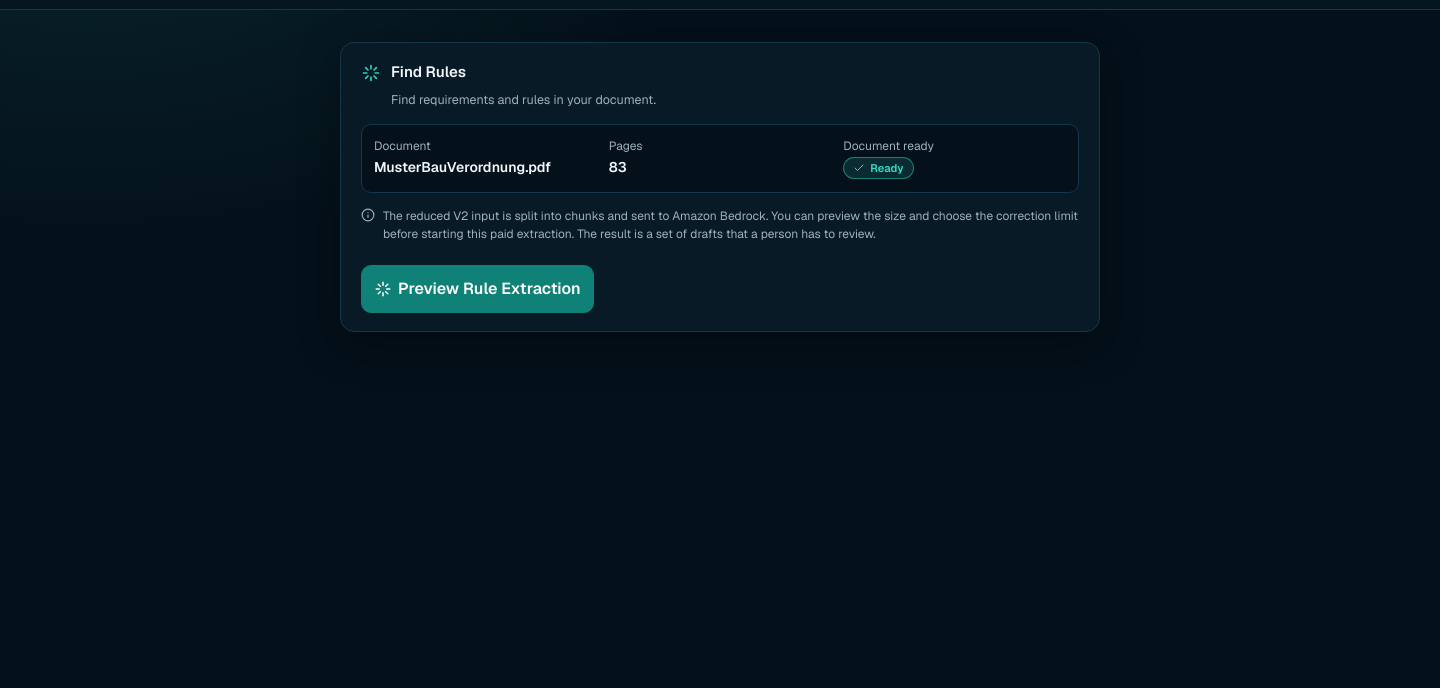
Scenario: failures and timeouts › explains an output-limit failure in plain words, without the backend's message or code
The width and height of the screenshot is (1440, 688).
What coordinates should you click on to do the following:
click the button "Preview Rule Extraction"
I would click on:
 (477, 289)
Its box is [361,265,594,313].
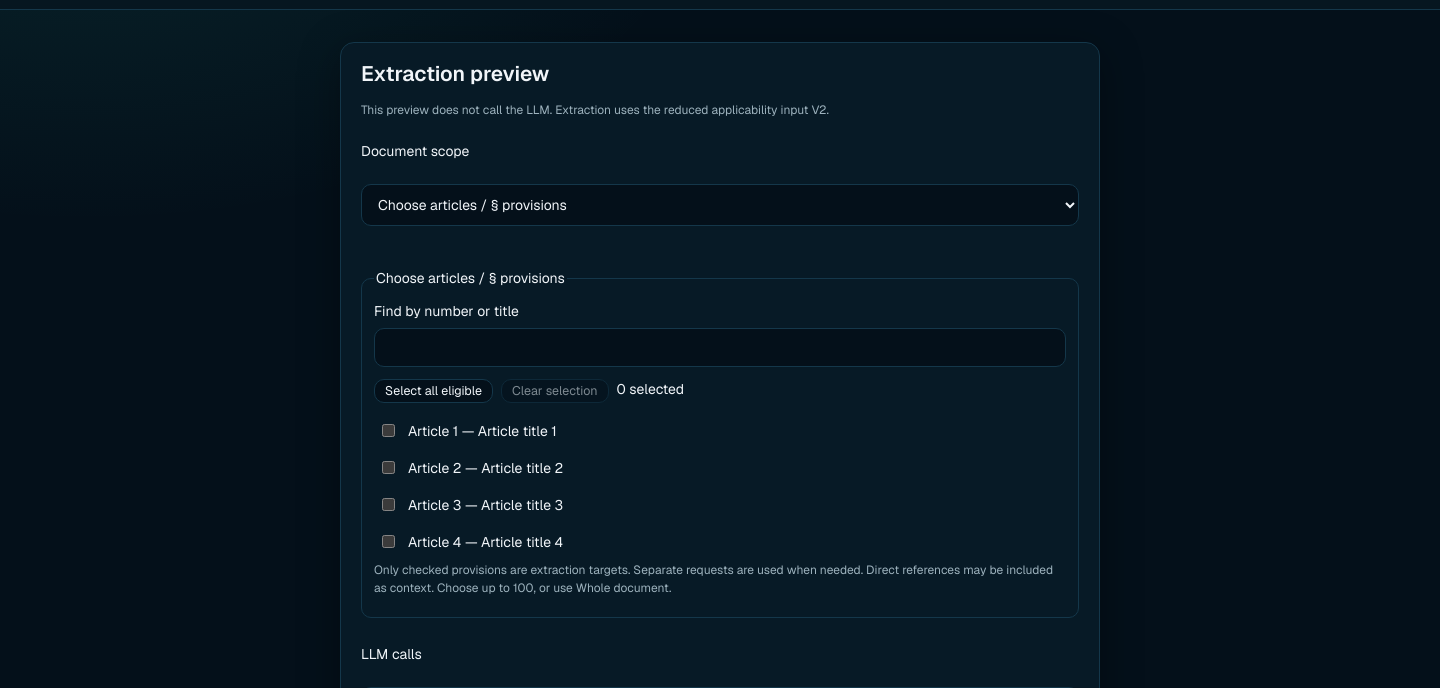
What coordinates should you click on to do the following:
click the checkbox labelled "Article 1 — Article title 1"
I would click on:
 (388, 431)
Its box is [382,424,395,437].
(page scrolled)
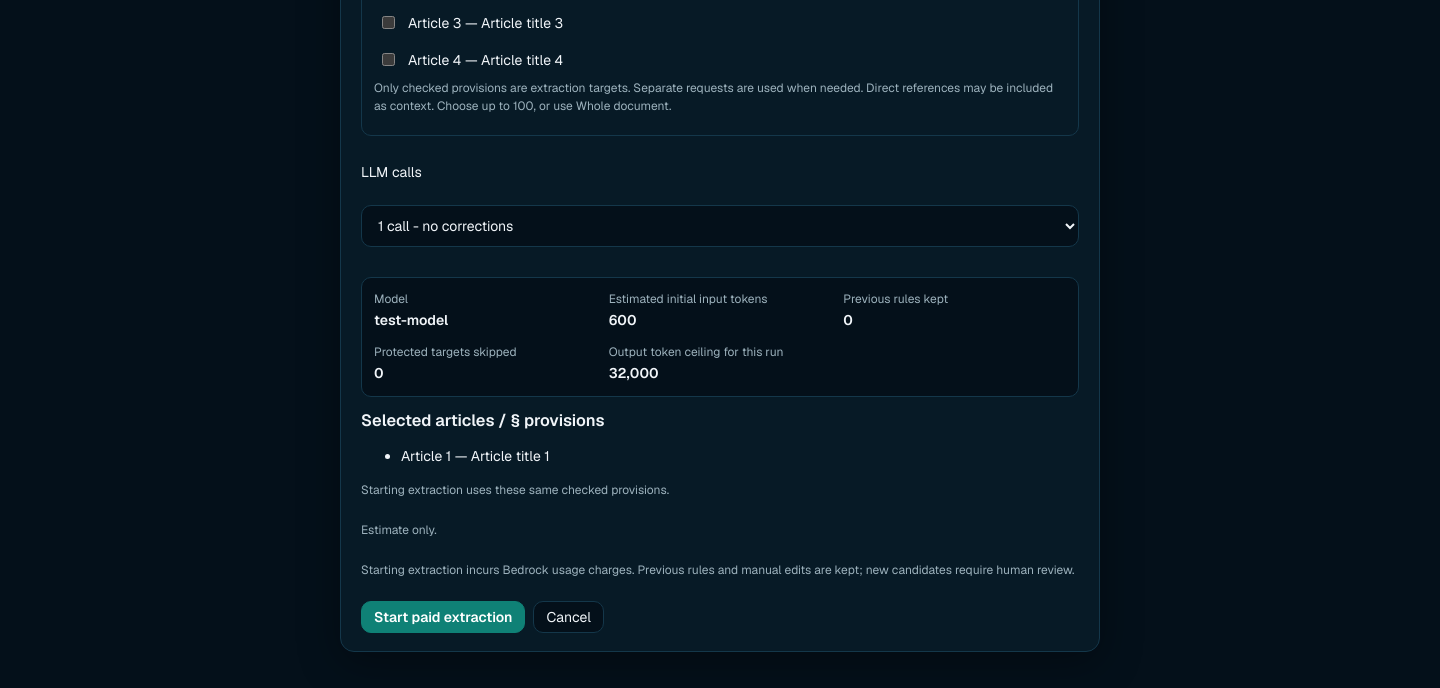
What coordinates should you click on to do the following:
click the button "Start paid extraction"
I would click on:
 (443, 617)
Its box is [361,601,526,633].
Wait 2000 ms
(page scrolled)
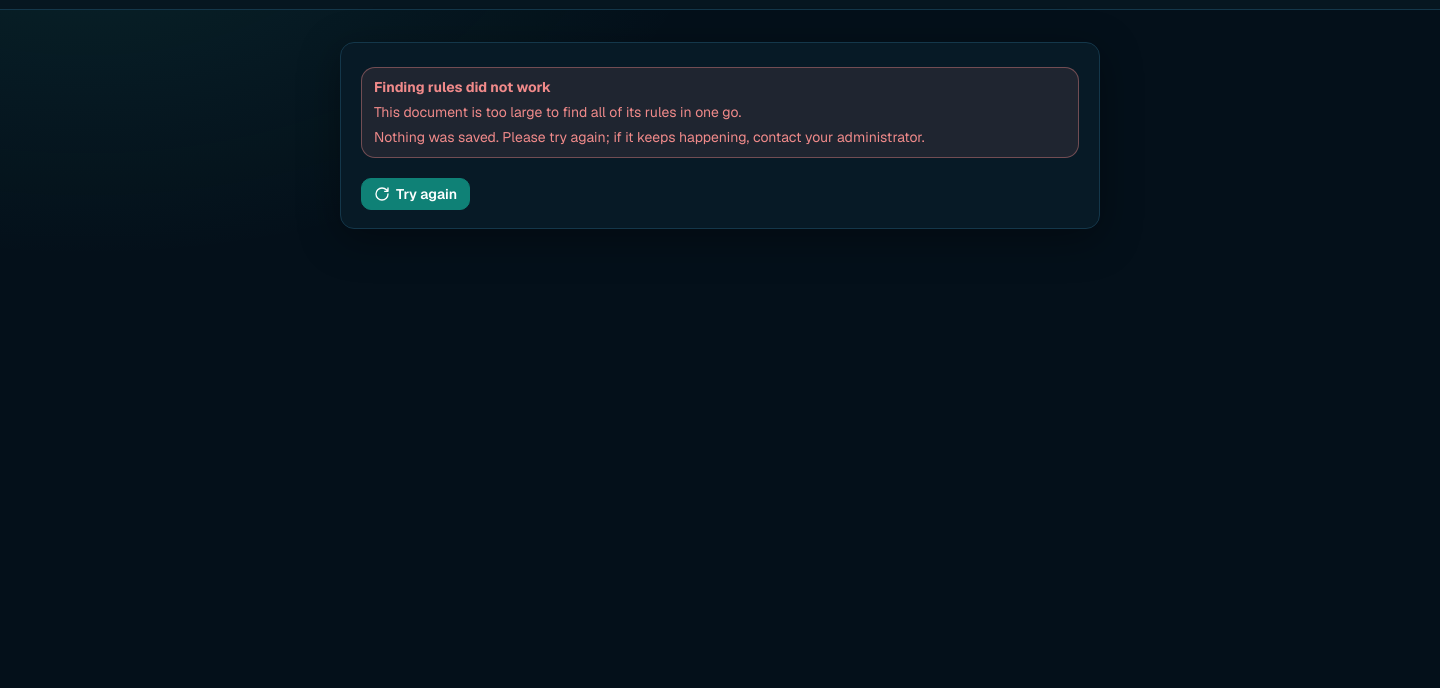
Check: the message with class "error" shows "This document is too large to find all of its rules in one go.", box [374,103,741,121]
Check: the button "Try again" is shown, box [361,178,470,210]
